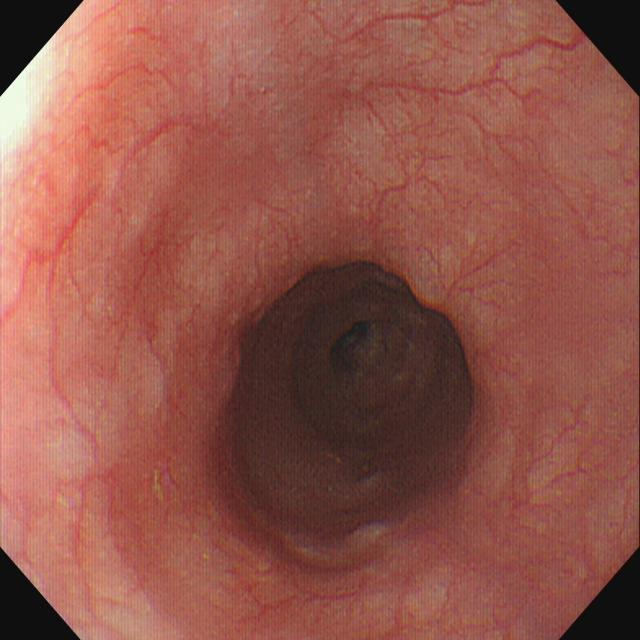E: (308, 310, 418, 431)
